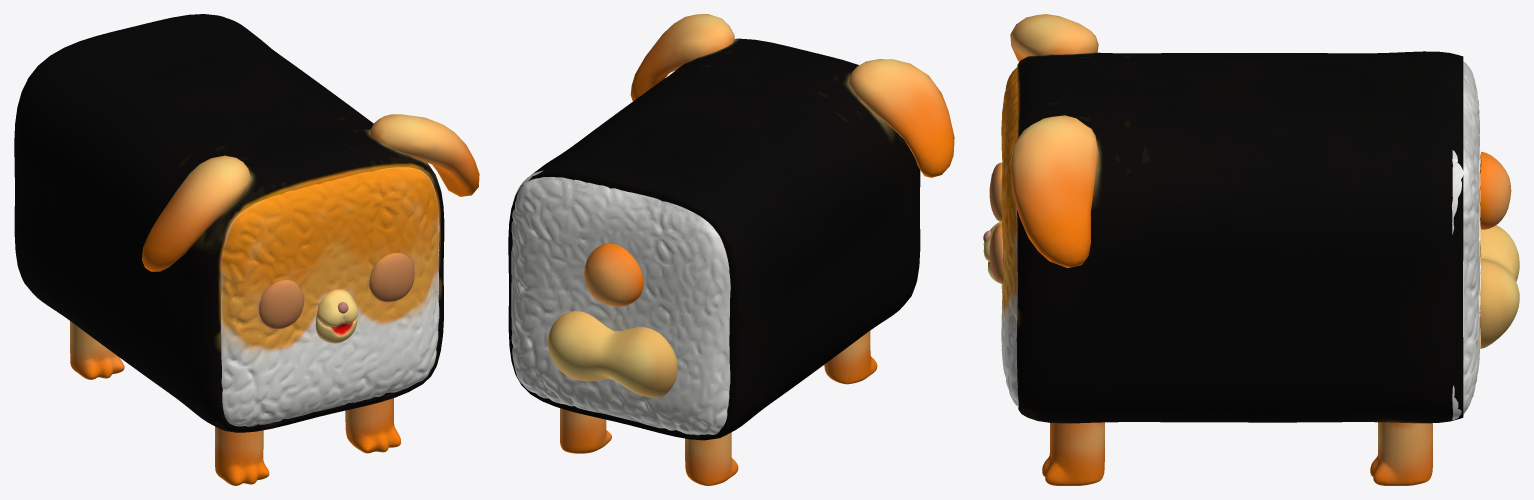
3 views of the same model, side by side, from view 1: azimuth 30°, elevation 25°; view 2: azimuth 150°, elevation 25°; view 3: azimuth 270°, elevation 25° (orthographic). The views are drawn at different scales.
Visible parts, largest first — view 1: inu; view 2: inu; view 3: inu.
Part boxes in pixels (x1=…): inu: x1=14, y1=14, x2=479, y2=485; inu: x1=508, y1=14, x2=954, y2=485; inu: x1=983, y1=14, x2=1519, y2=485.
Bounding box in the file's own units: 0.0282 × 0.0268 × 0.0353.
1 material, 1 textured.
